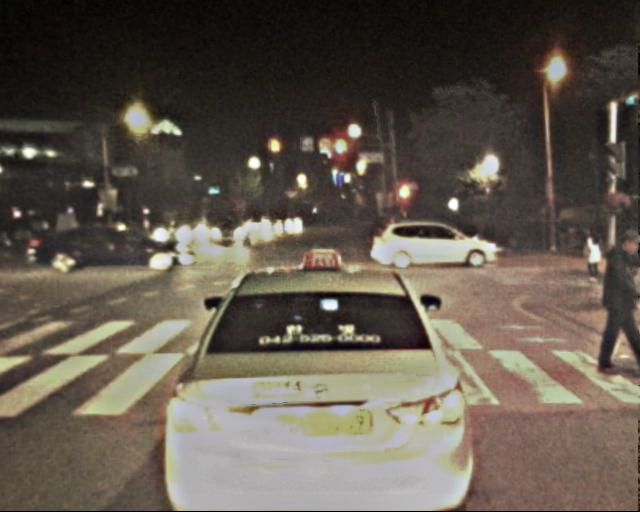person: (595, 231, 634, 368), (580, 228, 606, 292), (618, 227, 640, 285)
